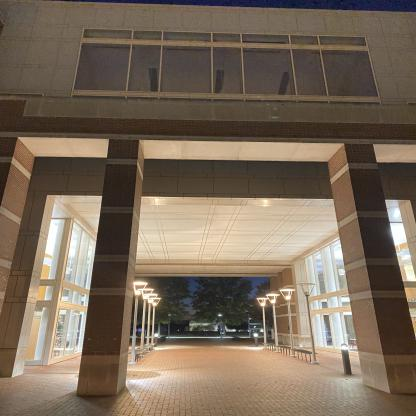eb2: (3, 4, 415, 415)
